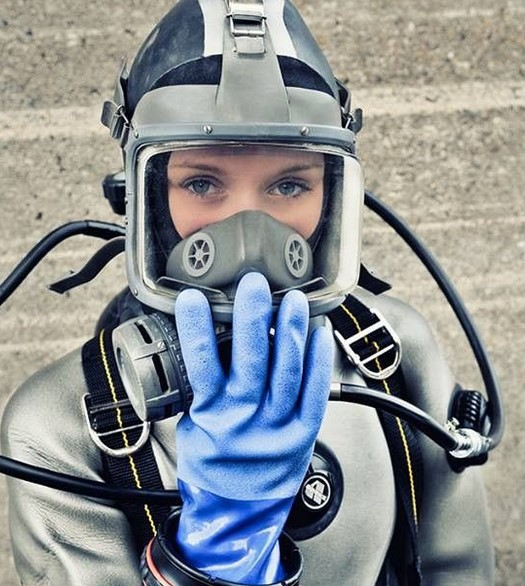face_with_mask: (95, 9, 406, 409)
